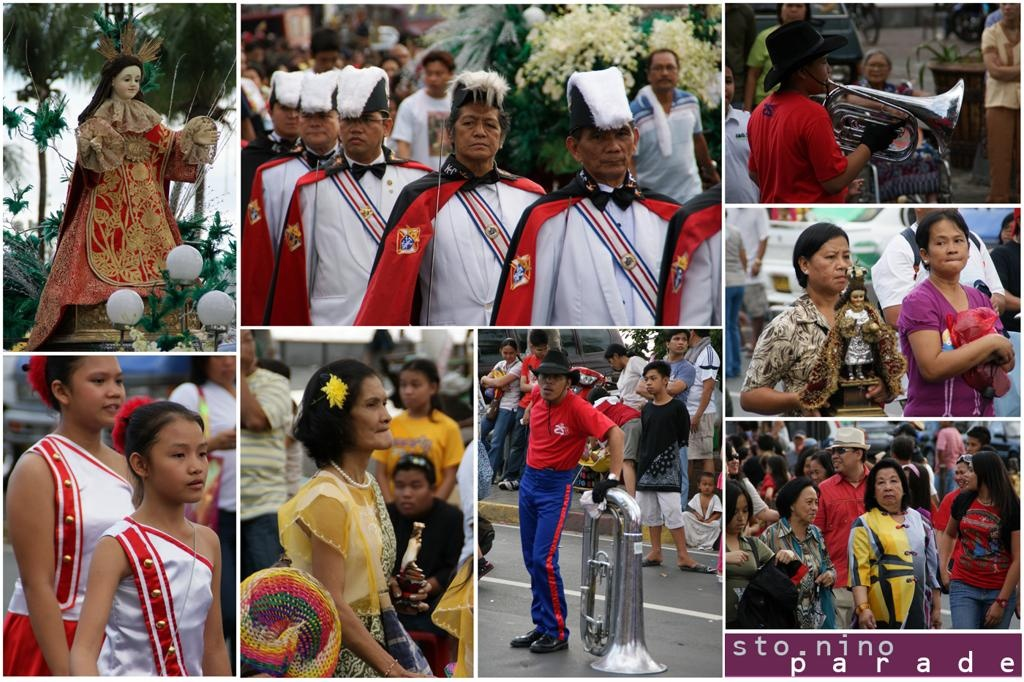human_face: (146, 417, 208, 500), (66, 355, 124, 427), (344, 375, 392, 448), (579, 114, 633, 176), (452, 97, 500, 159), (339, 101, 383, 153), (808, 235, 848, 290), (928, 218, 968, 272), (204, 332, 244, 383), (298, 102, 338, 148), (393, 468, 431, 514), (272, 94, 308, 134), (228, 325, 256, 367), (398, 369, 428, 407), (807, 50, 833, 92), (874, 468, 902, 504), (710, 66, 734, 106), (650, 54, 678, 88), (538, 364, 566, 398), (724, 493, 748, 531), (793, 486, 817, 522), (114, 65, 140, 97), (831, 440, 857, 470), (424, 62, 448, 90), (864, 54, 888, 82), (314, 50, 338, 72), (780, 4, 804, 26), (964, 460, 982, 488), (964, 434, 984, 456), (644, 370, 662, 394), (952, 463, 968, 487), (810, 460, 824, 486), (725, 447, 739, 473), (380, 60, 398, 80), (669, 332, 687, 352), (999, 0, 1019, 18), (803, 454, 817, 479), (243, 70, 261, 88), (392, 51, 410, 67), (1000, 221, 1014, 241), (848, 288, 864, 304), (501, 343, 515, 361), (532, 339, 546, 357), (606, 354, 620, 370), (237, 52, 247, 74), (700, 476, 712, 494), (794, 434, 802, 446), (764, 461, 772, 473)
